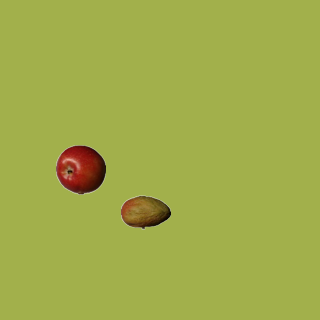Apple Braeburn: (55, 144, 105, 194)
Papaya: (120, 187, 170, 237)
